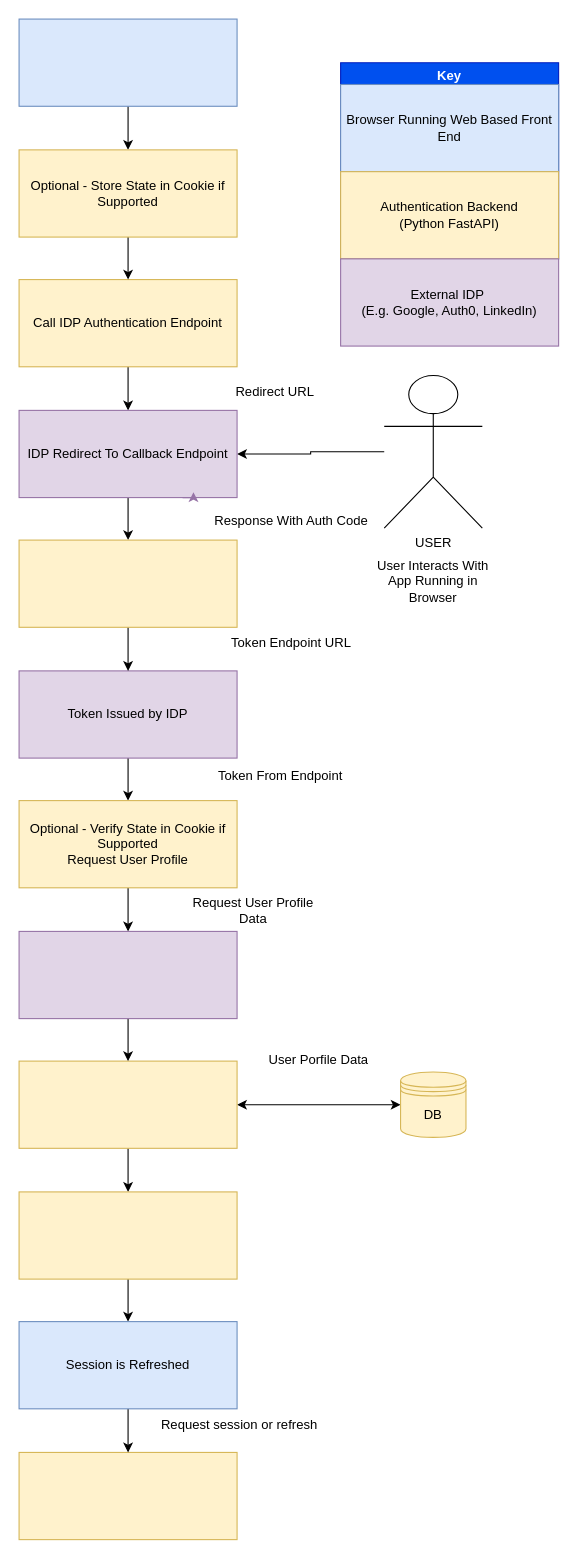
This 578x1559 diagram has some shape labels left out. The centre of each missing label's shape, as x and y in pixels:
"Back End Validates Token or Refreshes Token Token Pair Set in Cookie" belongs at point (127, 1495).
"Backend Generates JWT Toekn Pair And Stores in The Session Cookie" belongs at point (127, 1235).
"Open Login Endpoint" belongs at point (127, 62).
"Profile Data Returned From IDP" belongs at point (127, 974).
"Request Token" belongs at point (127, 583).
"Token Verified and User Created / Updated" belongs at point (127, 1104).
